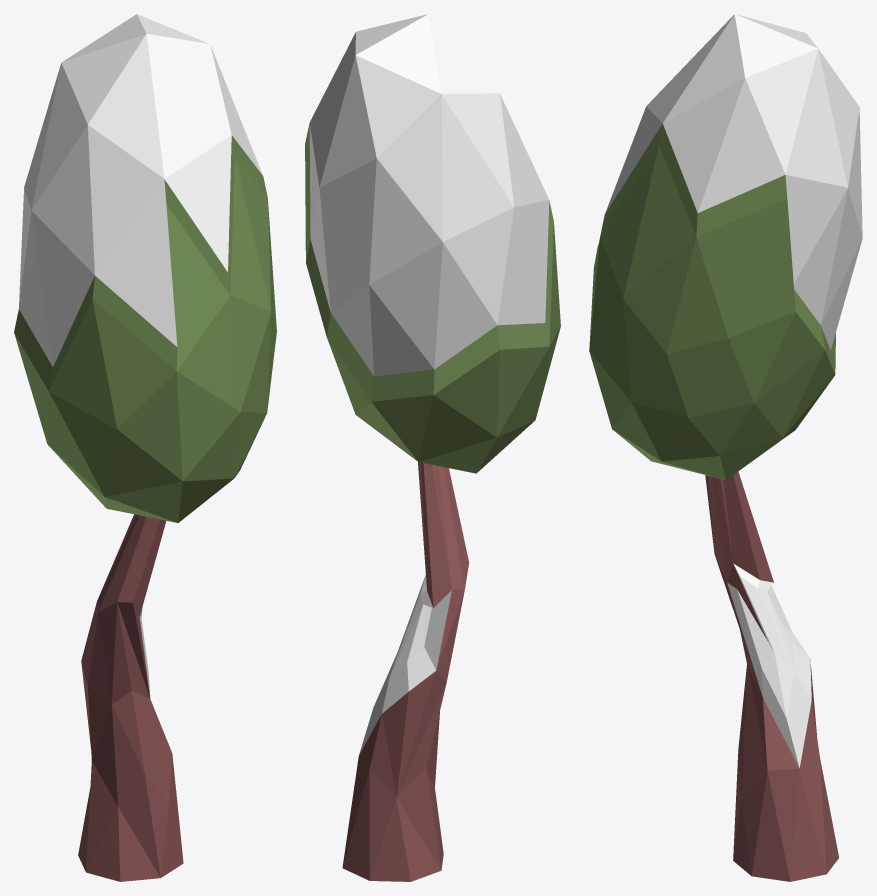
The model's file is Poplar Tree_6 Snow.fbx.
3 views of the same model, side by side, from view 1: azimuth 30°, elevation 25°; view 2: azimuth 150°, elevation 25°; view 3: azimuth 270°, elevation 25° (orthographic).
Visible parts, largest first — view 1: Poplar Tree_6 Snow; view 2: Poplar Tree_6 Snow; view 3: Poplar Tree_6 Snow.
Boxes of the visible parts, bbox=[...] form: Poplar Tree_6 Snow: bbox=[14, 14, 276, 881]; Poplar Tree_6 Snow: bbox=[305, 14, 560, 881]; Poplar Tree_6 Snow: bbox=[589, 14, 862, 881].
Size of the model in its own units: 1.37 by 5.05 by 1.49.
